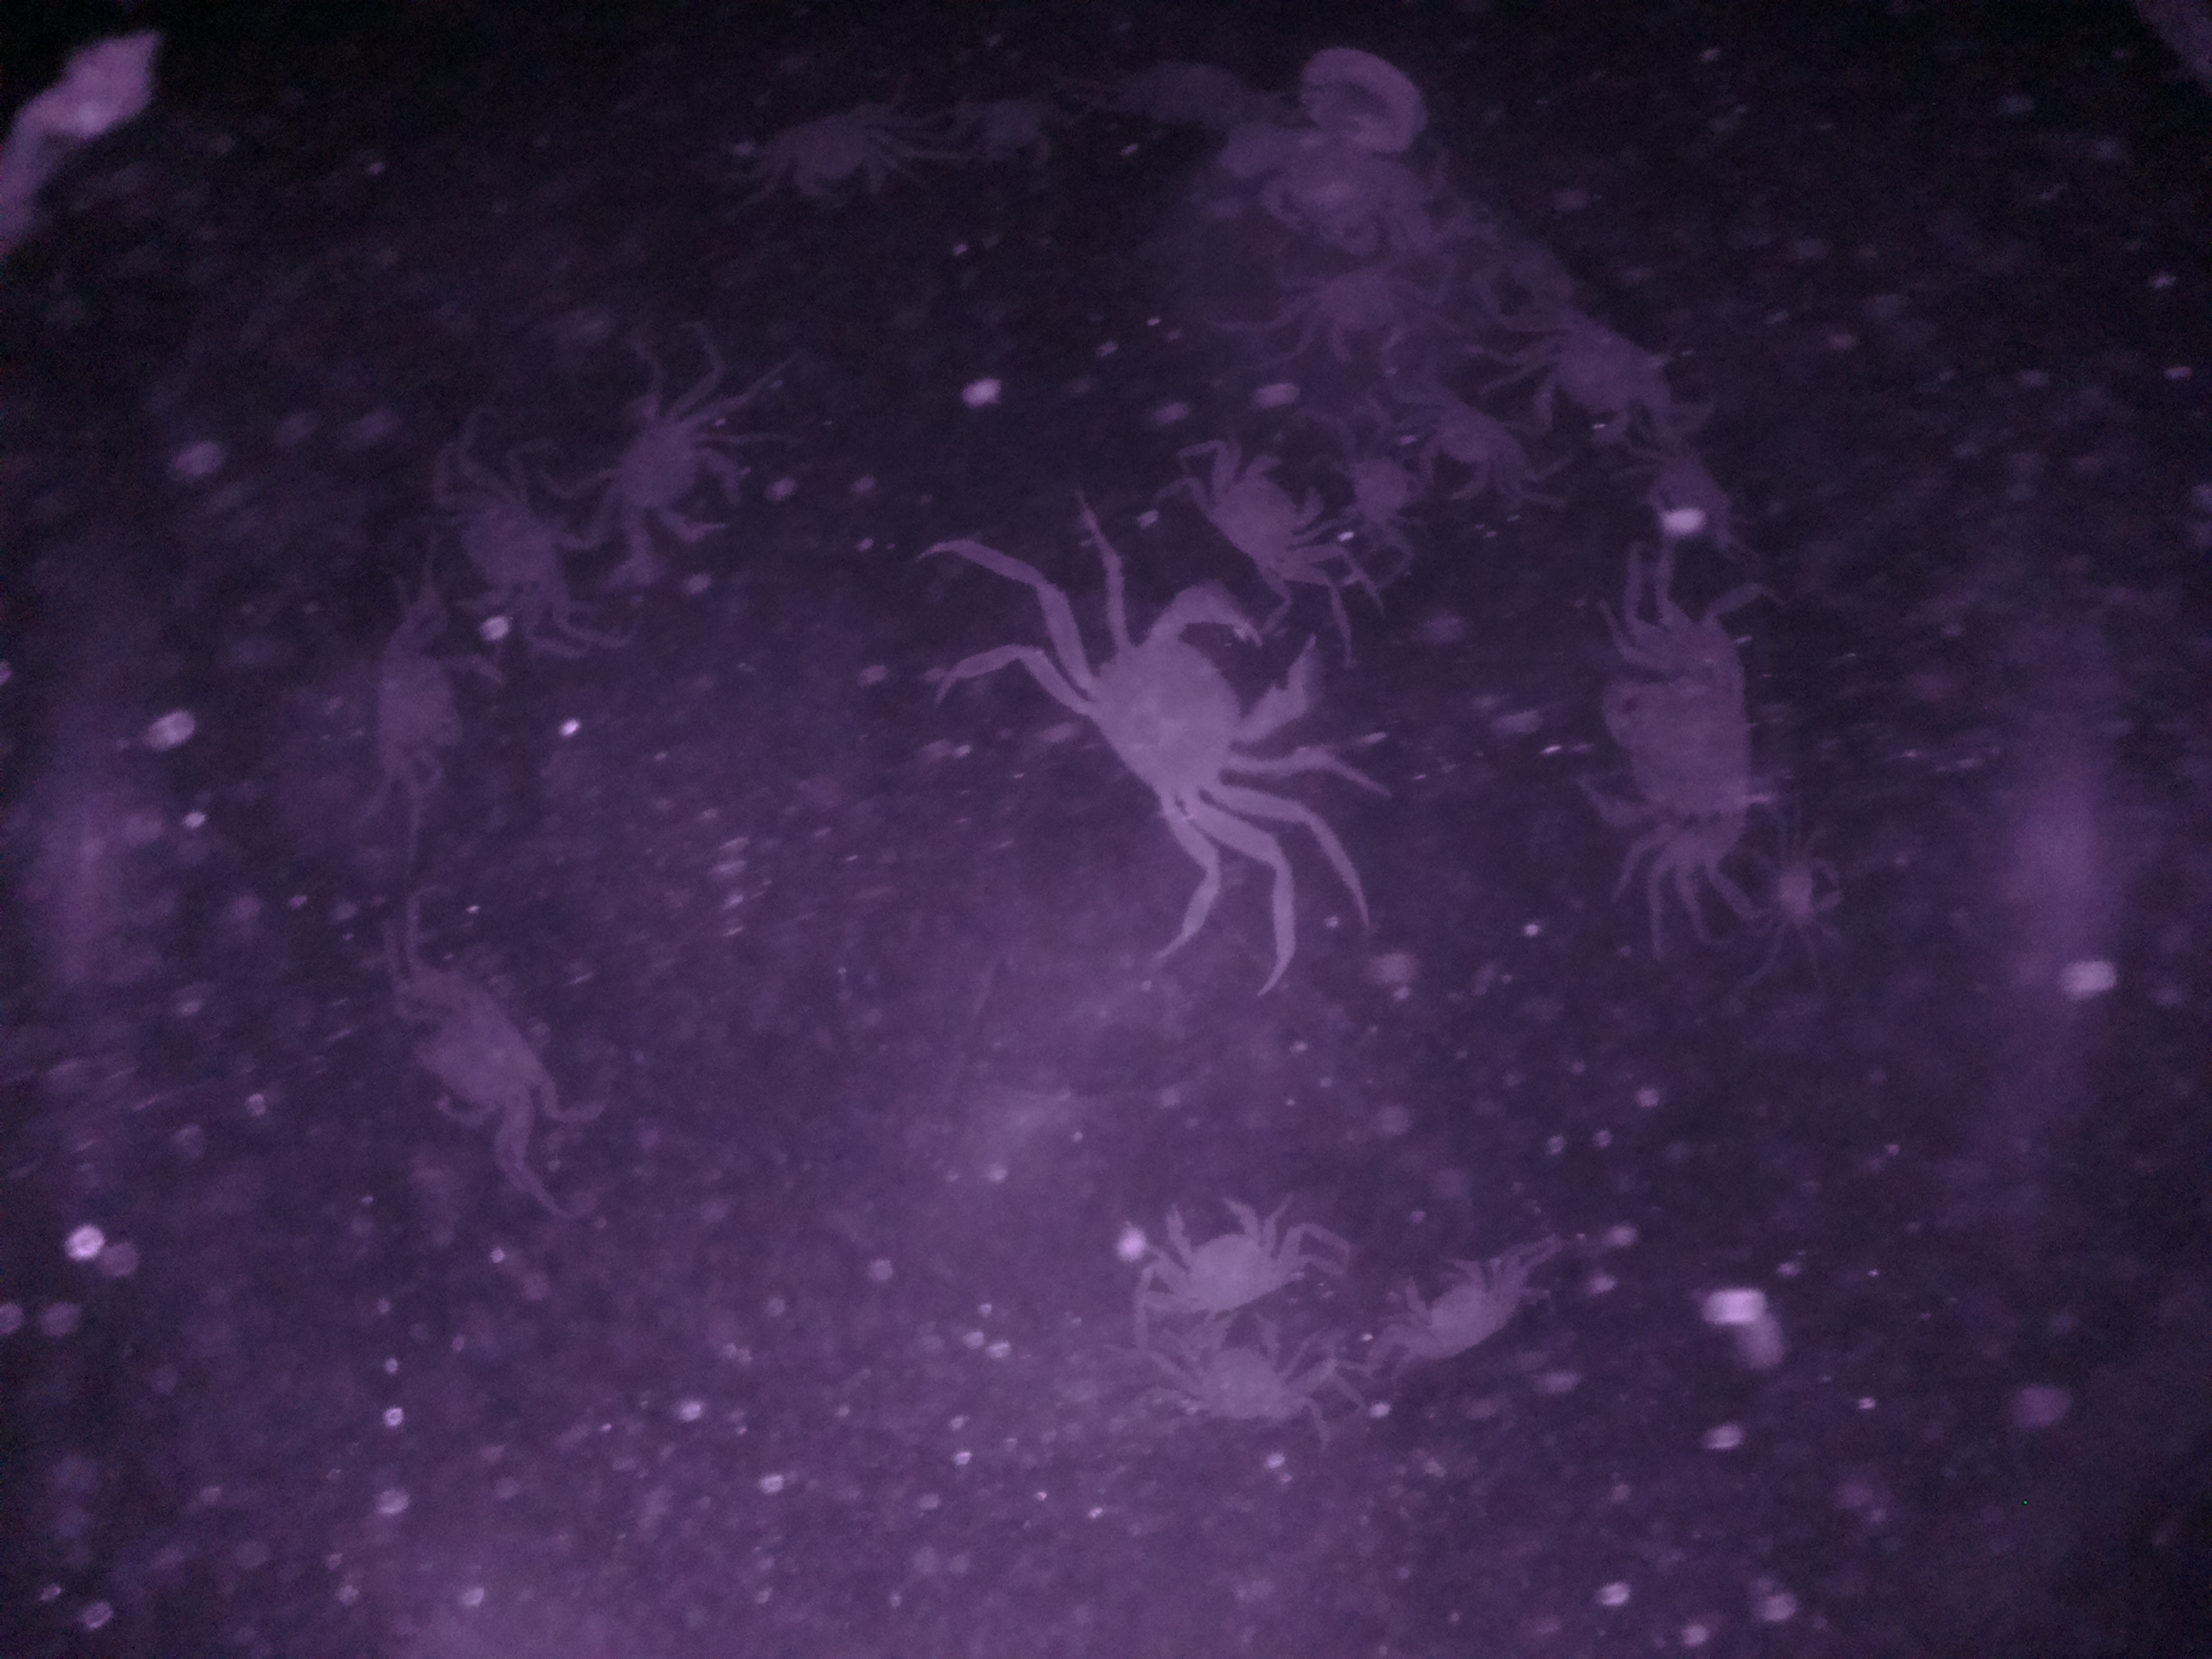Crab: (1003, 586, 1317, 885), (373, 941, 610, 1215), (1566, 608, 1778, 885), (1113, 1183, 1334, 1337), (585, 382, 761, 563), (428, 436, 583, 641), (1371, 1227, 1555, 1394), (1176, 436, 1346, 598), (1522, 308, 1683, 467), (1270, 240, 1440, 385), (733, 94, 932, 216)
